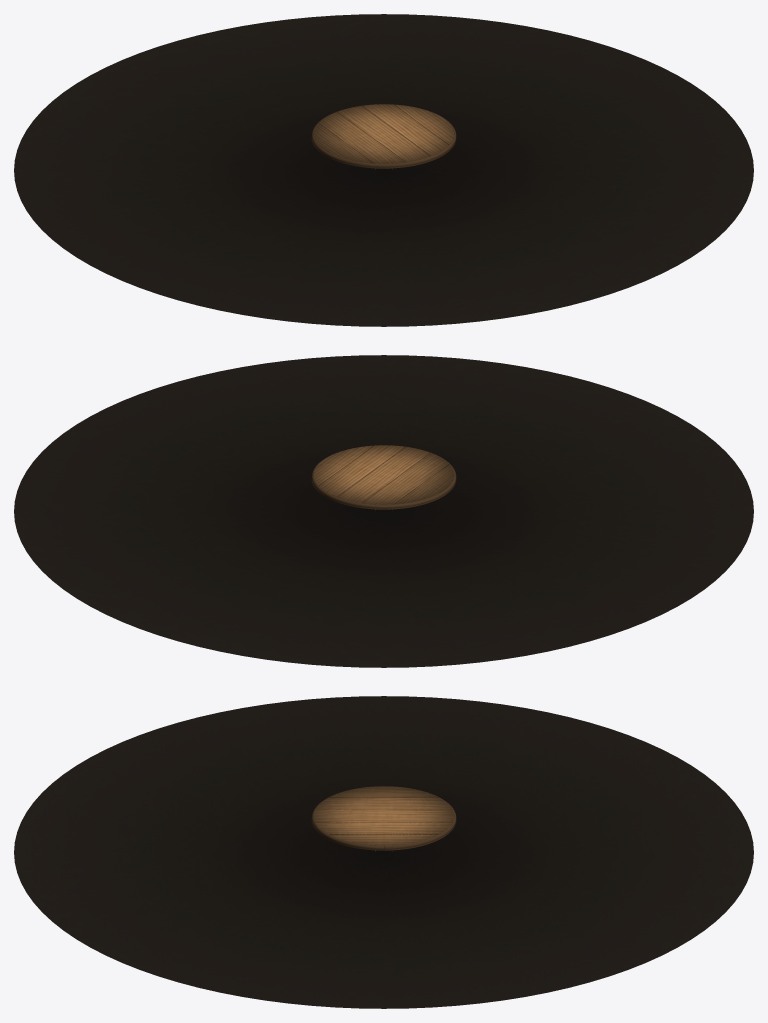
Rendered from table_cafe.glb.
3 renders of one model, top to bottom at view 1: azimuth 30°, elevation 25°; view 2: azimuth 150°, elevation 25°; view 3: azimuth 270°, elevation 25°, orthographic.
Parts seen in each view (by area): view 1: table; view 2: table; view 3: table.
Boxes of the visible parts, x1,y1,x2,y2 form: table: (14, 14, 753, 326); table: (14, 355, 753, 667); table: (14, 696, 753, 1008).
Bounding box in the file's own units: 92 × 5 × 92.
1 material, 1 textured.
